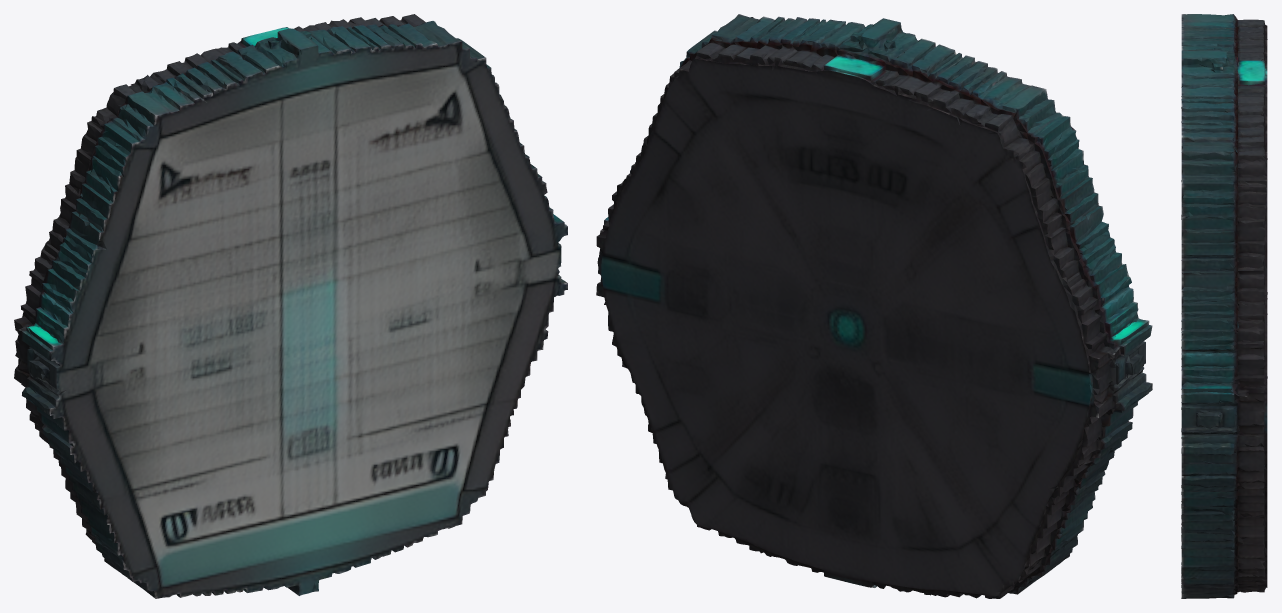
Rendered from rodin_CK1_RoofPanel_raw.glb.
The picture shows the model from 3 angles, left to right: view 1: azimuth 30°, elevation 25°; view 2: azimuth 150°, elevation 25°; view 3: azimuth 270°, elevation 25°; orthographic projection. The views are drawn at different scales.
Parts seen in each view (by area): view 1: model; view 2: model; view 3: model.
Part boxes in pixels (x1=…): model: x1=14, y1=14, x2=567, y2=598; model: x1=596, y1=14, x2=1152, y2=598; model: x1=1181, y1=14, x2=1267, y2=598.
Size of the model in its own units: 1.89 by 1.9 by 0.294.
1 material, 1 textured.
